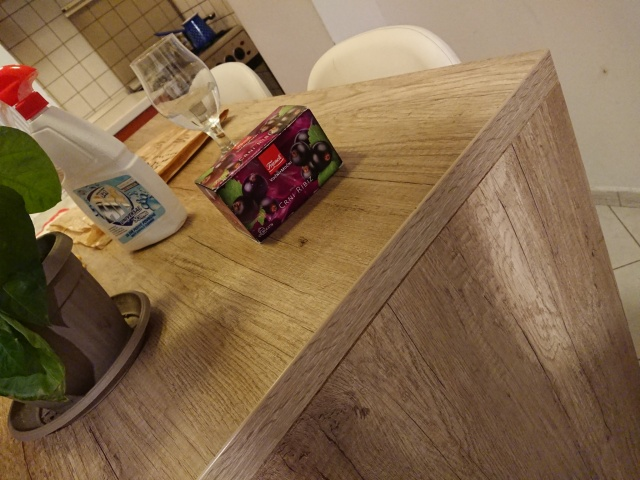Franck Black Currant Tea 60g: (192, 102, 346, 246)
